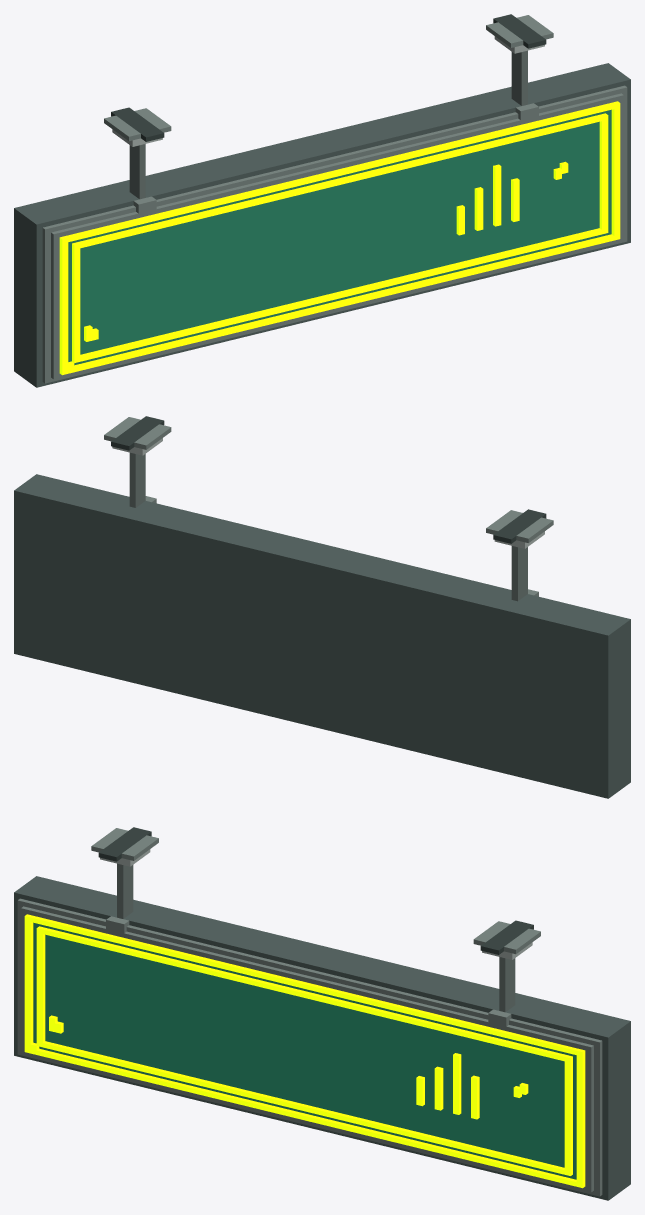
The model's file is enseigne.glb.
3 views of the same model, one above another, from view 1: azimuth 30°, elevation 25°; view 2: azimuth 150°, elevation 25°; view 3: azimuth 330°, elevation 25° (orthographic).
Visible parts, largest first — view 1: Ecran vert profond, Contour neon vert, Boitier graphite, Bord metal sombre, Suspentes anthracite, Vis noires, Reflet menthe; view 2: Boitier graphite, Bord metal sombre, Suspentes anthracite, Vis noires; view 3: Ecran vert profond, Contour neon vert, Boitier graphite, Bord metal sombre, Suspentes anthracite, Vis noires, Reflet menthe.
Part boxes in pixels (box(x1,y1,x2,y2)): Ecran vert profond: box(68, 109, 611, 365); Contour neon vert: box(59, 101, 620, 372); Boitier graphite: box(14, 63, 630, 387); Bord metal sombre: box(42, 15, 627, 383); Suspentes anthracite: box(129, 50, 527, 199); Vis noires: box(111, 14, 546, 141); Reflet menthe: box(59, 161, 568, 375); Boitier graphite: box(14, 474, 630, 798); Bord metal sombre: box(104, 417, 553, 596); Suspentes anthracite: box(129, 452, 527, 601); Vis noires: box(111, 416, 546, 543); Ecran vert profond: box(33, 922, 576, 1179); Contour neon vert: box(24, 914, 585, 1188); Boitier graphite: box(14, 876, 630, 1200); Bord metal sombre: box(17, 828, 602, 1196); Suspentes anthracite: box(117, 863, 515, 1012); Vis noires: box(98, 827, 533, 954); Reflet menthe: box(24, 1015, 528, 1094).
Size of the model in its own units: 6.86 by 2.6 by 0.7.
